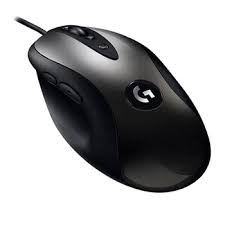mouse: (25, 19, 214, 197)
